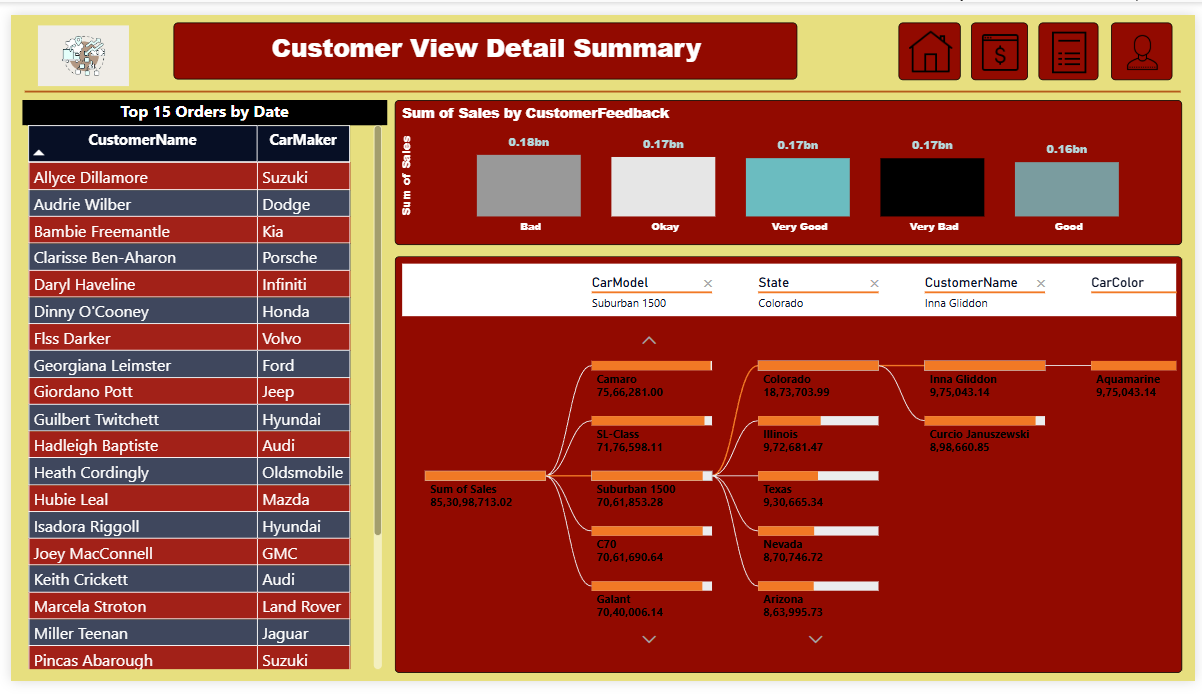

Layout of this report page (visuals, bound fields, positions):
{"tool":"powerbi","page":{"name":"Customer View","canvas":[1280,720],"ordinal":3},"visuals":[{"type":"tableEx","title":"Top 15 Orders by Date","fields":{"Values":["cars_data.CustomerName","cars_data.CarMaker"]},"box":[12.6,91.6,394.1,620],"z":0},{"type":"columnChart","fields":{"Y":["Sum(cars_data.Sales)"],"Category":["cars_data.CustomerFeedback"]},"box":[414.2,91.6,851,156.9],"z":1000},{"type":"textbox","box":[176.1,8.4,674.4,61.5],"z":2000},{"type":"shape","box":[14.5,68.8,1249.9,27.7],"z":3000},{"type":"decompositionTreeVisual","fields":{"Analyze":["Sum(cars_data.Sales)"],"ExplainBy":["cars_data.CarModel","cars_data.State","cars_data.CustomerName","cars_data.CarColor","cars_data.ShipMode"]},"box":[414.2,261.1,851,450.6],"z":4000},{"type":"image","box":[24.1,3.6,108.6,79.6],"z":5000},{"type":"image","box":[1038,8,61.5,62.7],"z":6000},{"type":"image","box":[959.6,8,67.6,62.7],"z":7000},{"type":"image","box":[1110.4,8,65.1,62.7],"z":8000},{"type":"image","box":[1188.8,8,66.4,62.7],"z":9000}]}

Visuals, with their boxes in screenshot pixels (x1, y1, x2, y2), scaled from the page's 1280x720 canvas onto the 1202x694 screenshot:
"Top 15 Orders by Date" tableEx: BBox(12, 88, 382, 686)
columnChart - Sum(cars_data.Sales) x cars_data.CustomerFeedback: BBox(389, 88, 1188, 240)
textbox: BBox(165, 8, 799, 67)
shape: BBox(14, 66, 1187, 93)
decompositionTreeVisual - Sum(cars_data.Sales) x cars_data.CarModel: BBox(389, 252, 1188, 686)
image: BBox(23, 3, 125, 80)
image: BBox(975, 8, 1032, 68)
image: BBox(901, 8, 965, 68)
image: BBox(1043, 8, 1104, 68)
image: BBox(1116, 8, 1179, 68)
